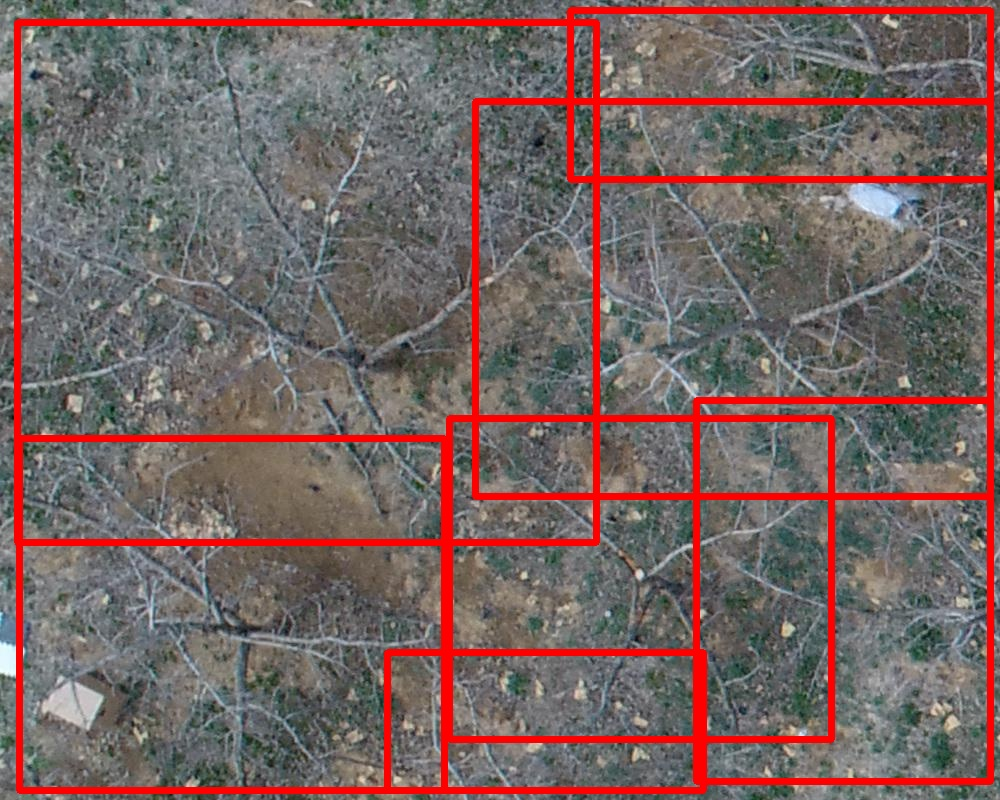apple: (17, 22, 596, 542), (475, 101, 990, 496), (19, 438, 444, 790), (449, 418, 831, 739), (696, 400, 990, 781), (570, 10, 990, 179), (387, 652, 703, 790)
